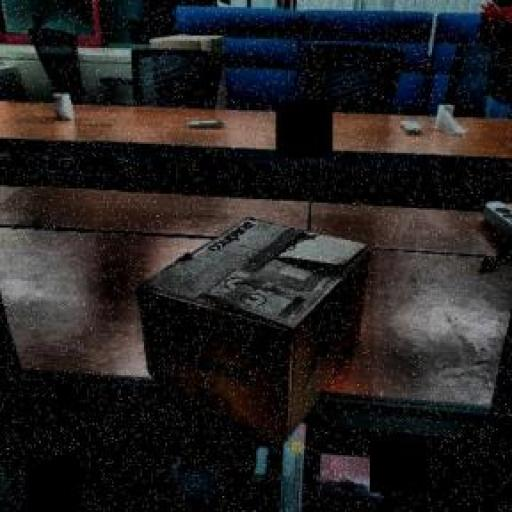box: (136, 214, 374, 452)
